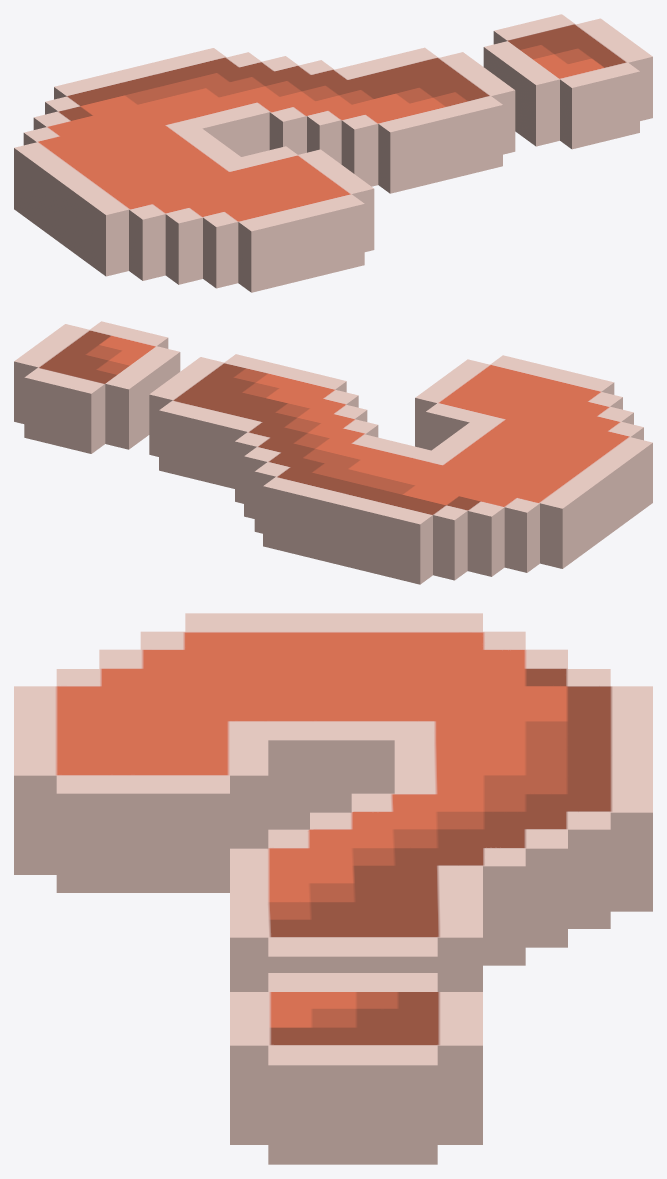
Rendered from Pergunta 1.fbx.
The picture shows the model from 3 angles, top to bottom: view 1: azimuth 30°, elevation 25°; view 2: azimuth 150°, elevation 25°; view 3: azimuth 270°, elevation 25°; orthographic projection. The views are drawn at different scales.
Visible parts, largest first — view 1: Pergunta; view 2: Pergunta; view 3: Pergunta.
Part boxes in pixels (x1,y1,x2,y2): Pergunta: (14,14,652,292); Pergunta: (14,321,652,584); Pergunta: (14,613,652,1164).
Size of the model in its own units: 50.98 by 5.22 by 30.47.
